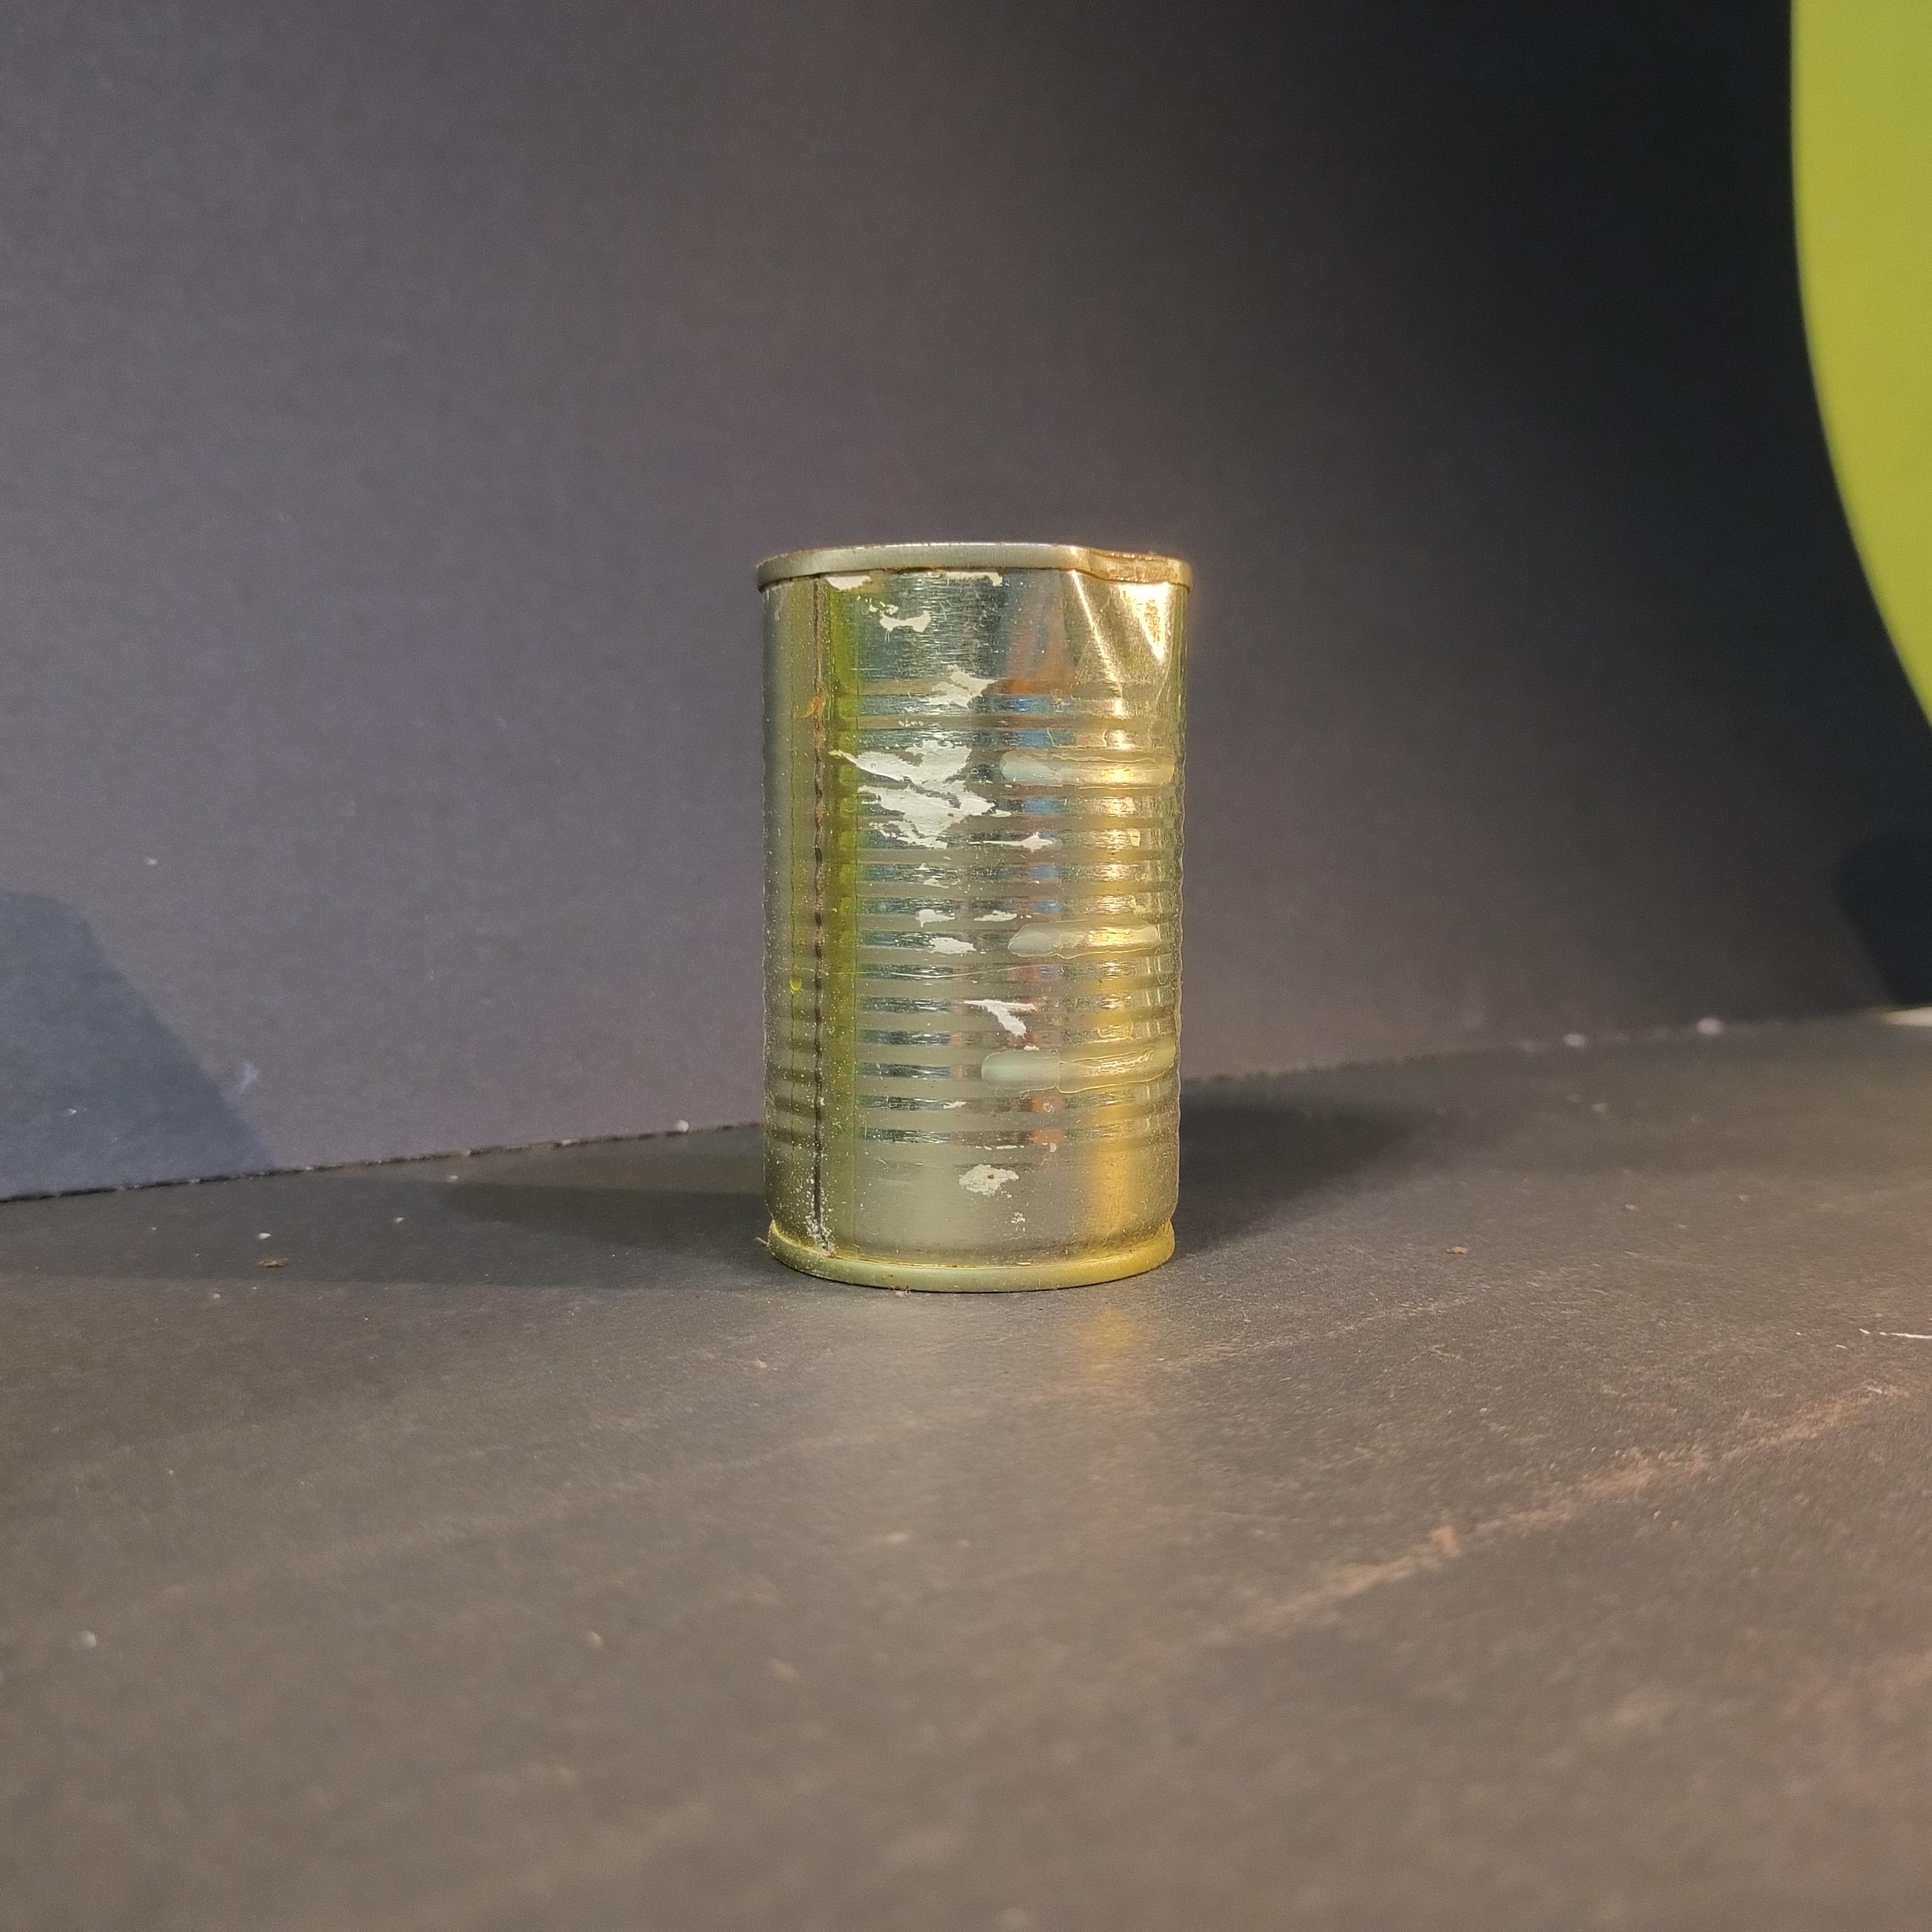Dented: (720, 511, 1215, 1299)
